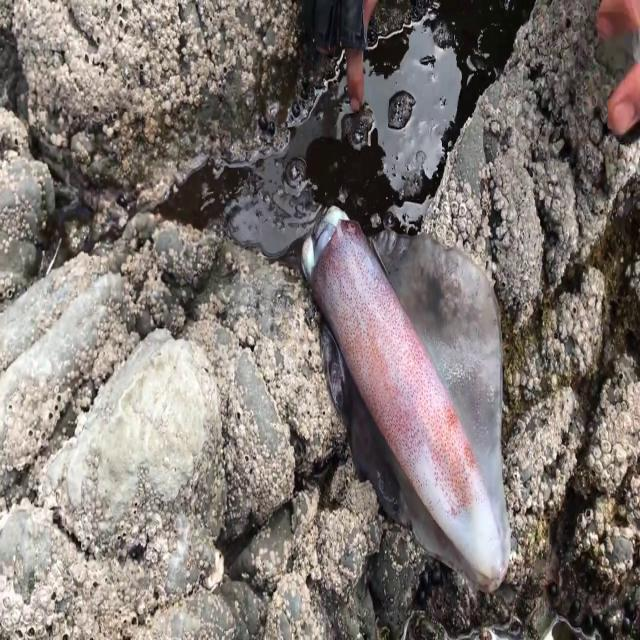SQUID: (255, 193, 542, 602)
